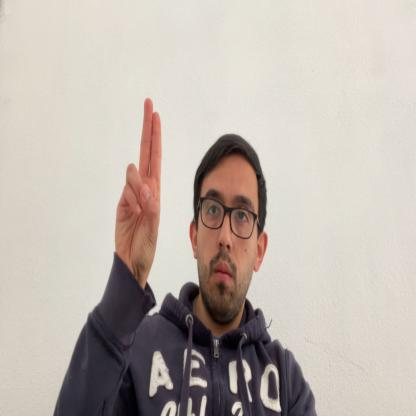U: (114, 98, 162, 283)
